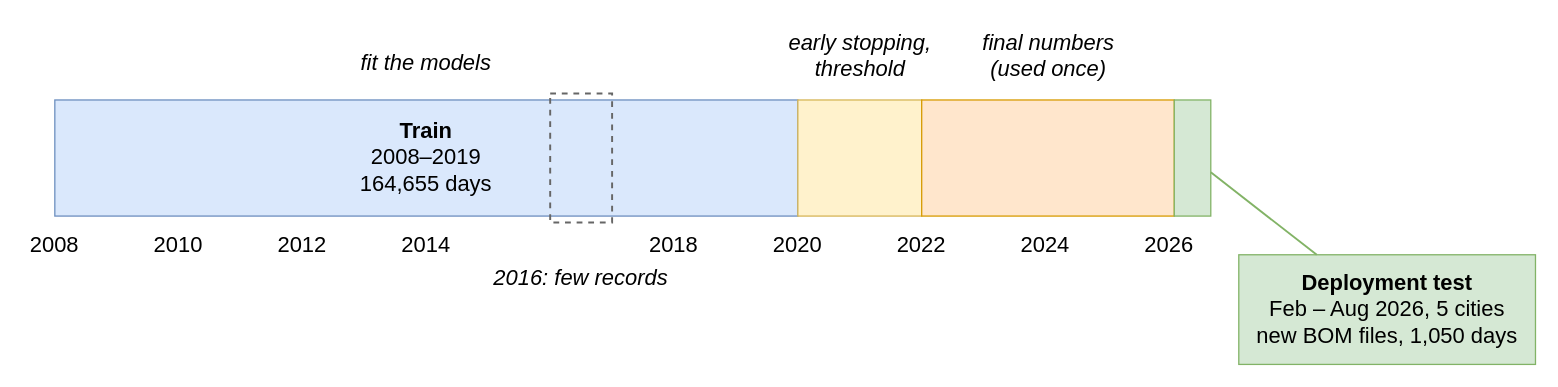
The diagram is 1558 pixels wide and 387 high, and some of its shapes have lost their labels. Each missing label, with the centre of its shape:
"Test 2022 – Jan 2026 66,566" goes at (x=1047, y=157).
"Validation 2020–21 32,910" goes at (x=859, y=157).
